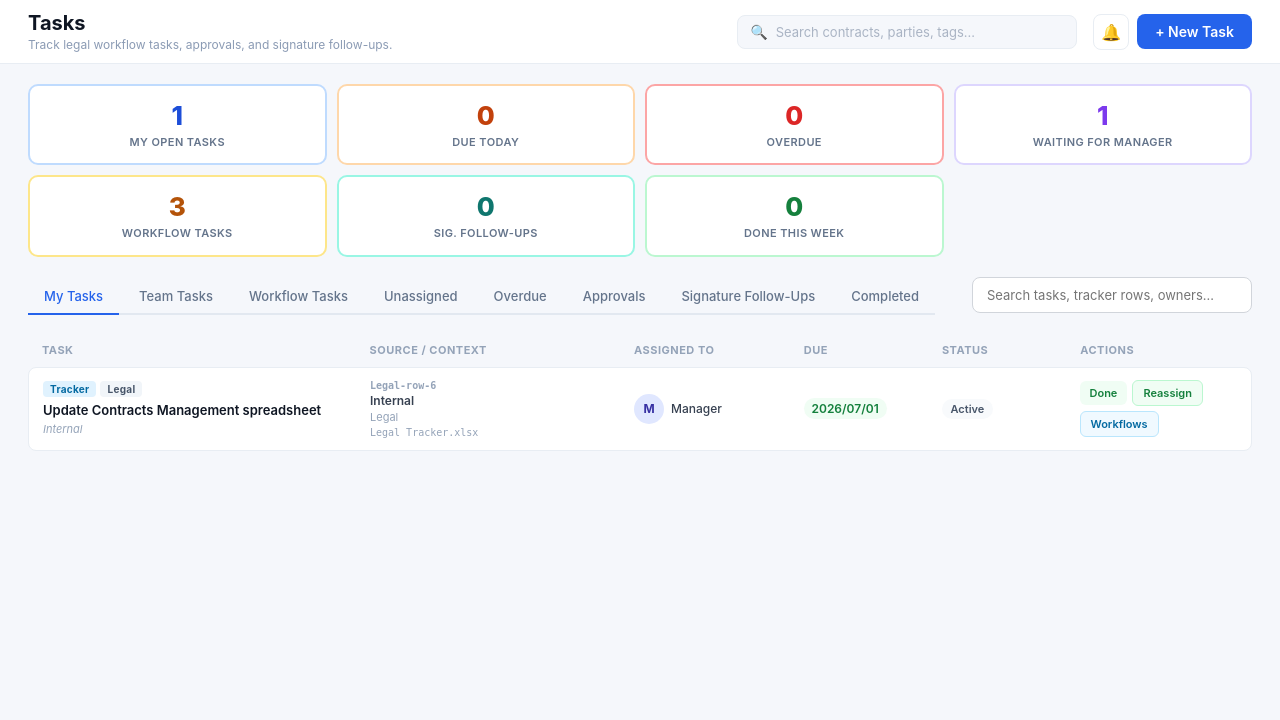
Test: (tf-2) Team Tasks shows all assigned items
The width and height of the screenshot is (1280, 720).
Click the button "Team Tasks" at coordinates (176, 297), box [123, 279, 229, 315]
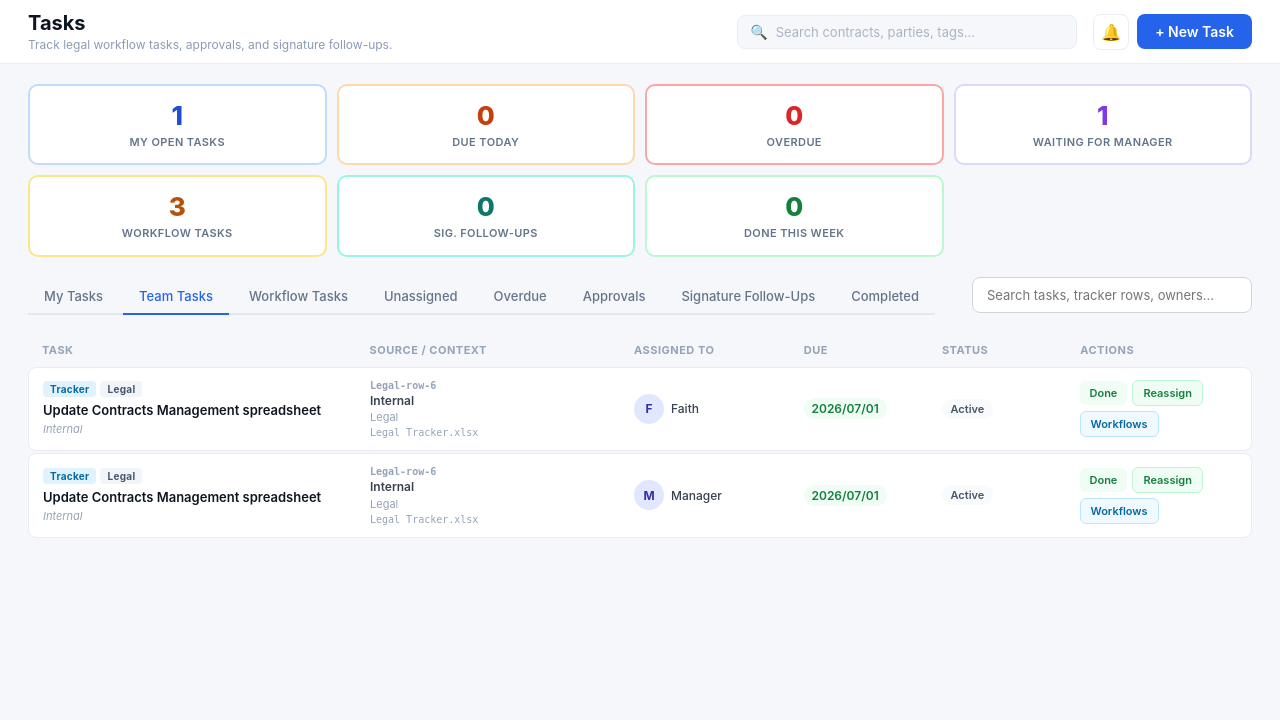
Check: the number of elements with class "tl__row" is 2, box [28, 367, 1252, 451]; [28, 453, 1252, 538]
